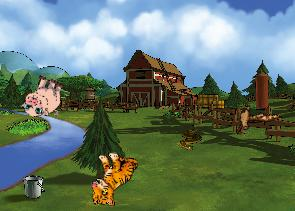eagle: (223, 89, 282, 146)
pig: (18, 71, 68, 123)
tiger: (89, 150, 138, 207)
